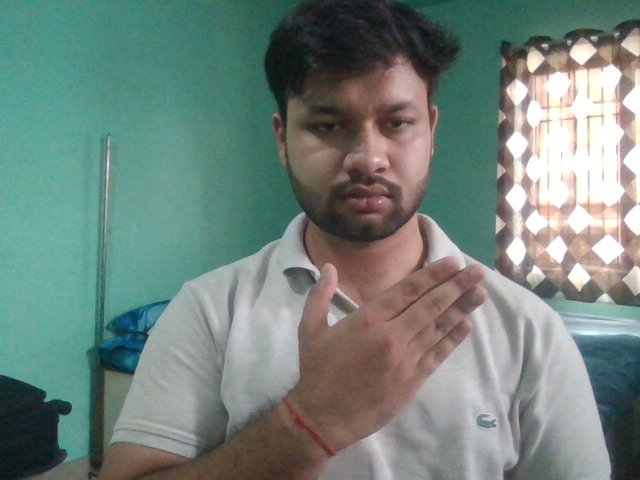Please: (287, 251, 492, 453)
